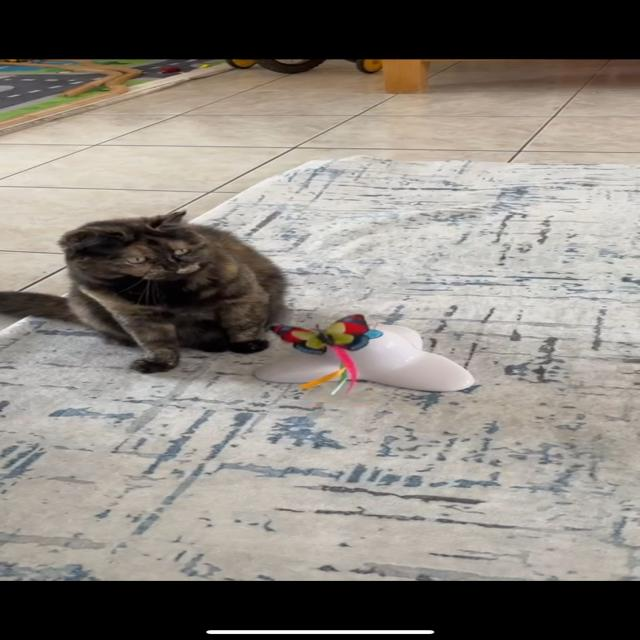authorized: (1, 208, 289, 374)
